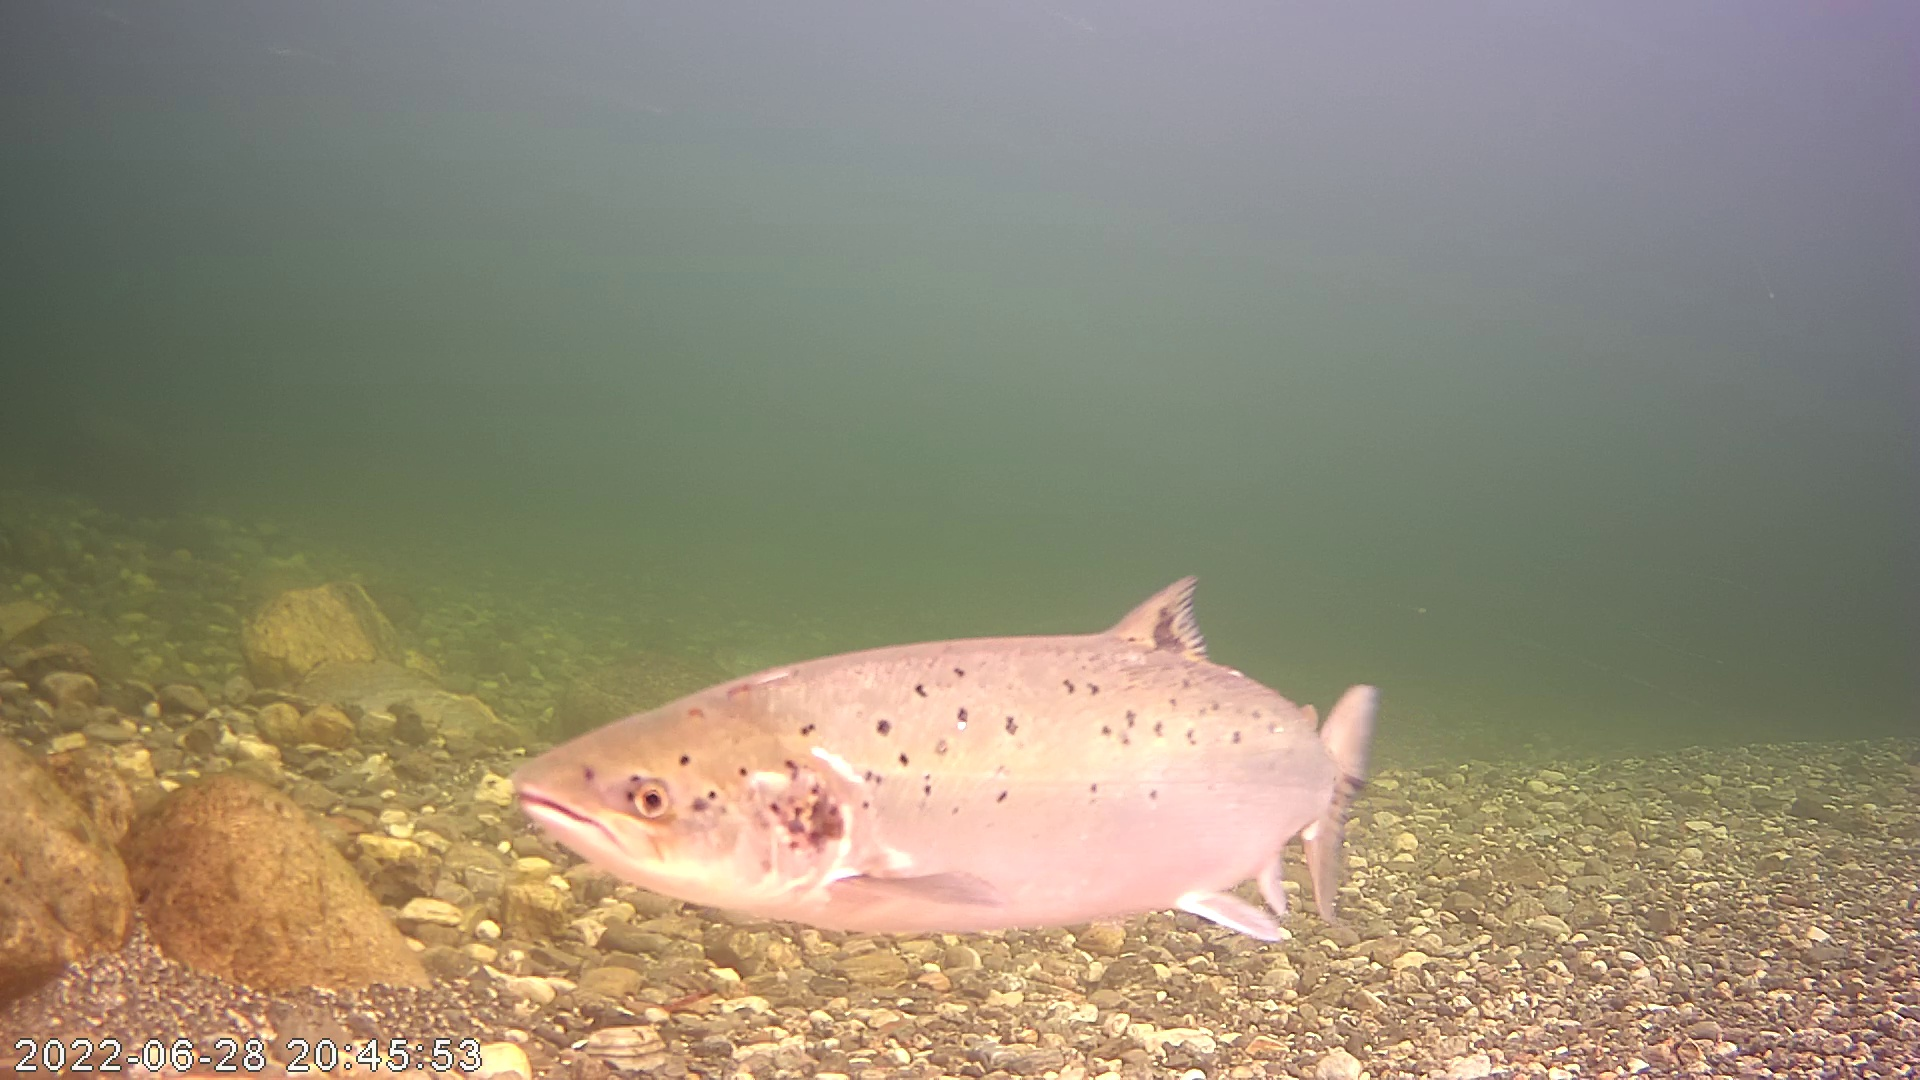salmon: (508, 551, 1398, 969)
